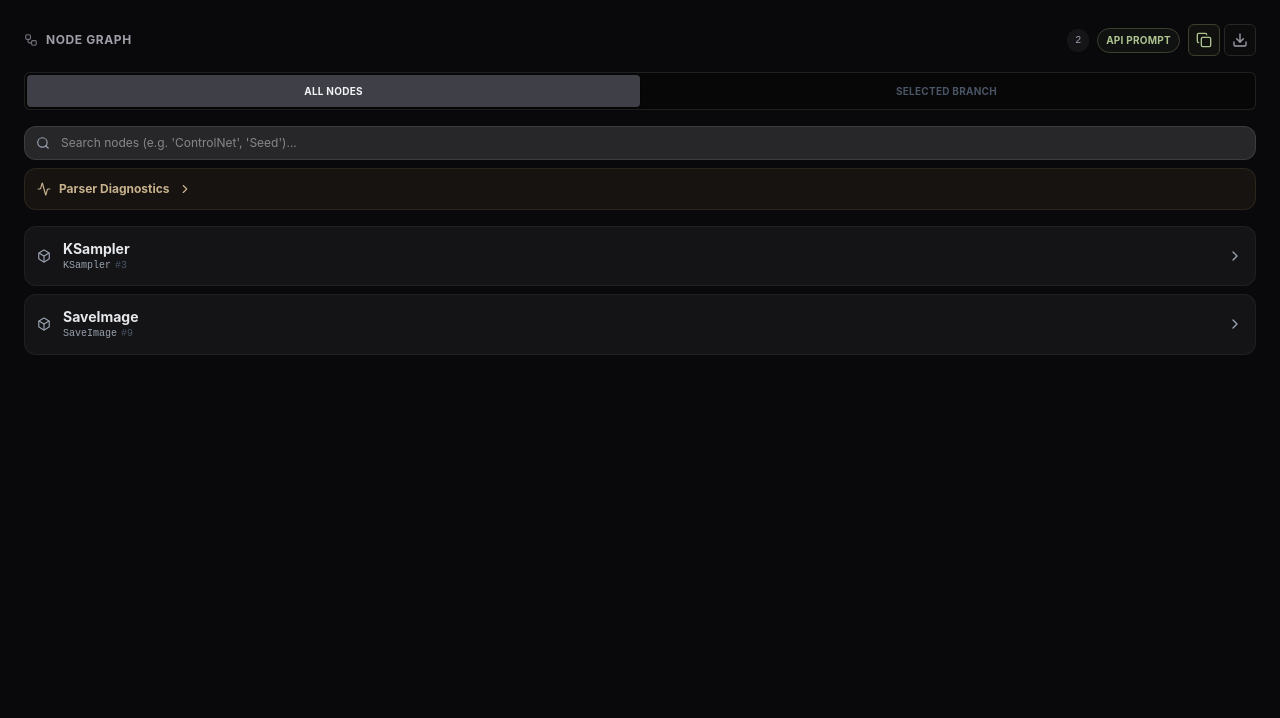
Scenario: WorkflowInspector ComfyUI parser diagnostics › keeps flat and unavailable resource sources visible without fake navigation
Click the button "Parser Diagnostics": click(114, 188) [37,181,1243,197]
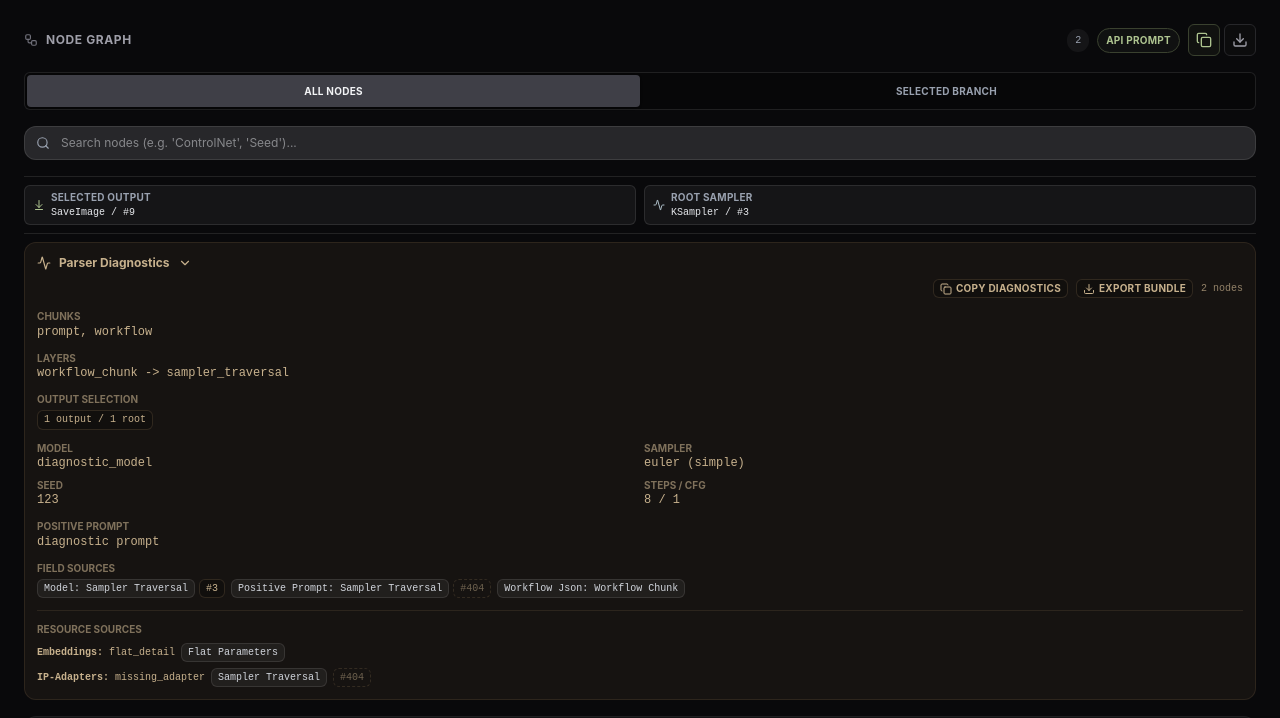
Now the text "Resource Sources" is shown, box [37,623,142,635]
Now the text "flat_detail" is shown, box [109,646,175,659]
Now the text titled "Flat parameters: embedded saver metadata, stronger than fallback scans but weaker than saved-output traversal." is shown, box [181,643,285,662]
